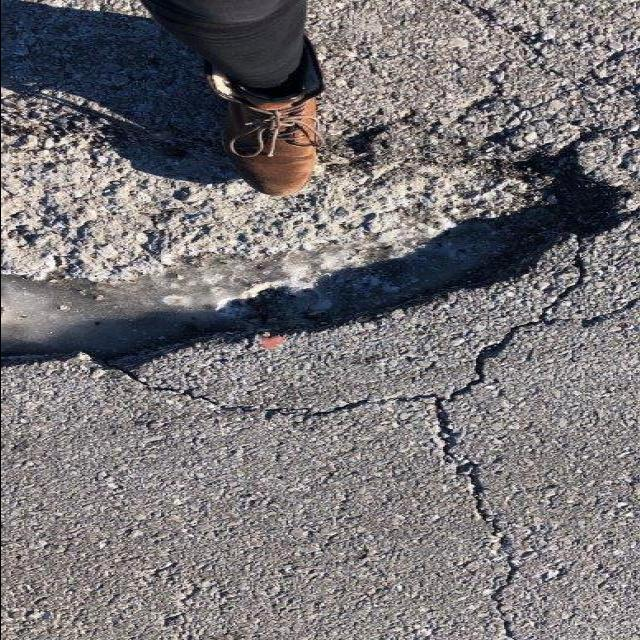jalan retak: (96, 252, 602, 434), (406, 307, 584, 640), (453, 2, 632, 136)
lubang: (2, 131, 640, 388)
